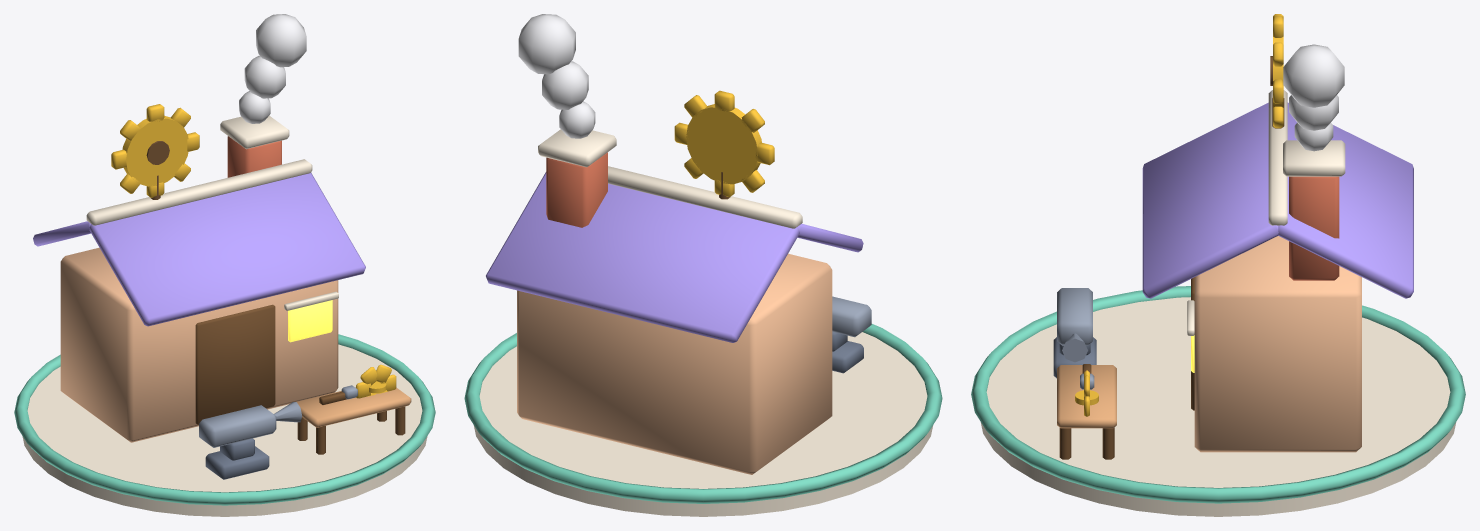
The model's file is workshop.glb.
3 renders of one model, left to right at view 1: azimuth 30°, elevation 25°; view 2: azimuth 150°, elevation 25°; view 3: azimuth 270°, elevation 25°, orthographic. The views are drawn at different scales.
Parts seen in each view (by area): view 1: workshop; view 2: workshop; view 3: workshop.
Part boxes in pixels (left/top/right/bottom): workshop: left=14, top=14, right=435, bottom=516; workshop: left=464, top=14, right=942, bottom=516; workshop: left=971, top=14, right=1465, bottom=516.
Bounding box in the file's own units: 4.14 × 3.92 × 4.14.
